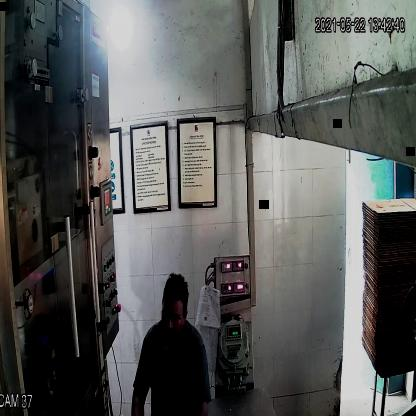goggles: (160, 305, 183, 329)
